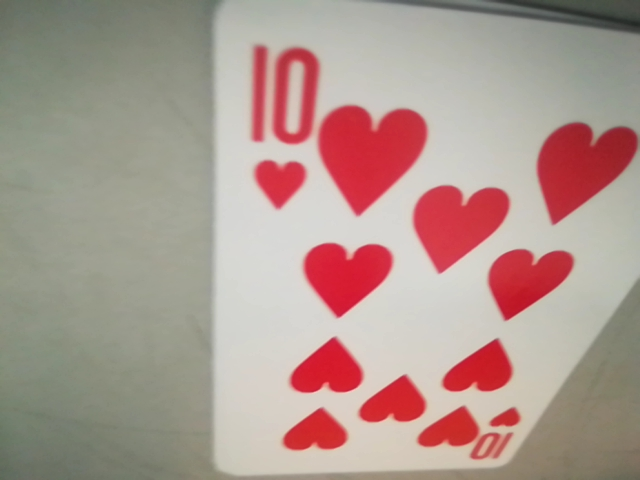hx 10: (238, 41, 318, 213)
